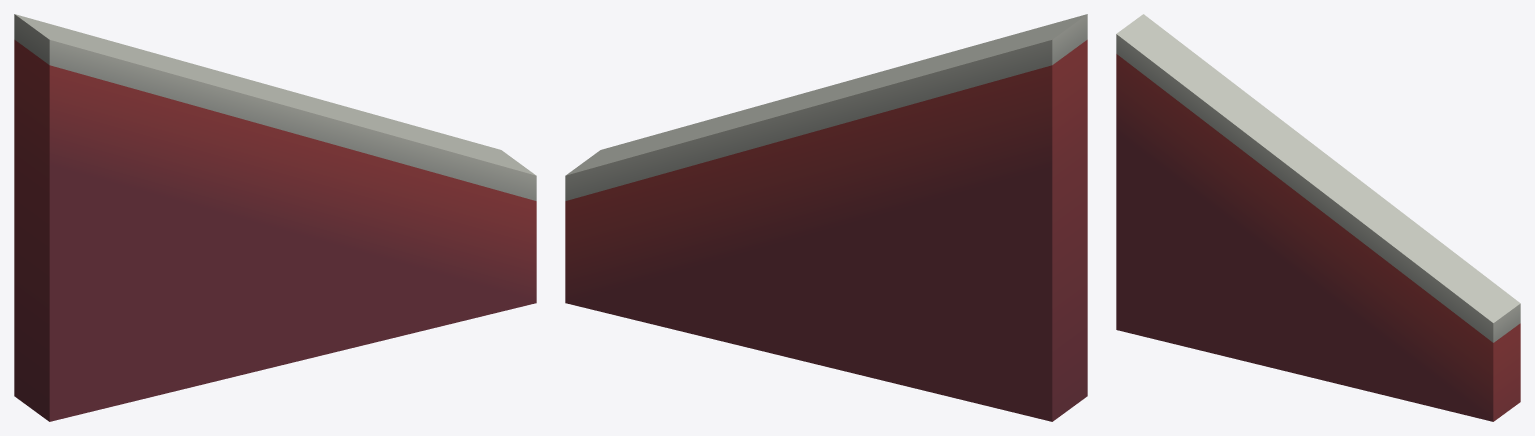
Rendered from Wall_Banister_Brick_01.fbx.
The picture shows the model from 3 angles, left to right: view 1: azimuth 30°, elevation 25°; view 2: azimuth 150°, elevation 25°; view 3: azimuth 330°, elevation 25°; orthographic projection. The views are drawn at different scales.
Parts seen in each view (by area): view 1: Wall_Banister_Brick_01; view 2: Wall_Banister_Brick_01; view 3: Wall_Banister_Brick_01.
Part boxes in pixels (x1=…): Wall_Banister_Brick_01: x1=14, y1=14, x2=536, y2=421; Wall_Banister_Brick_01: x1=565, y1=14, x2=1087, y2=421; Wall_Banister_Brick_01: x1=1116, y1=14, x2=1520, y2=421.
Bounding box in the file's own units: 400 × 300 × 50.
